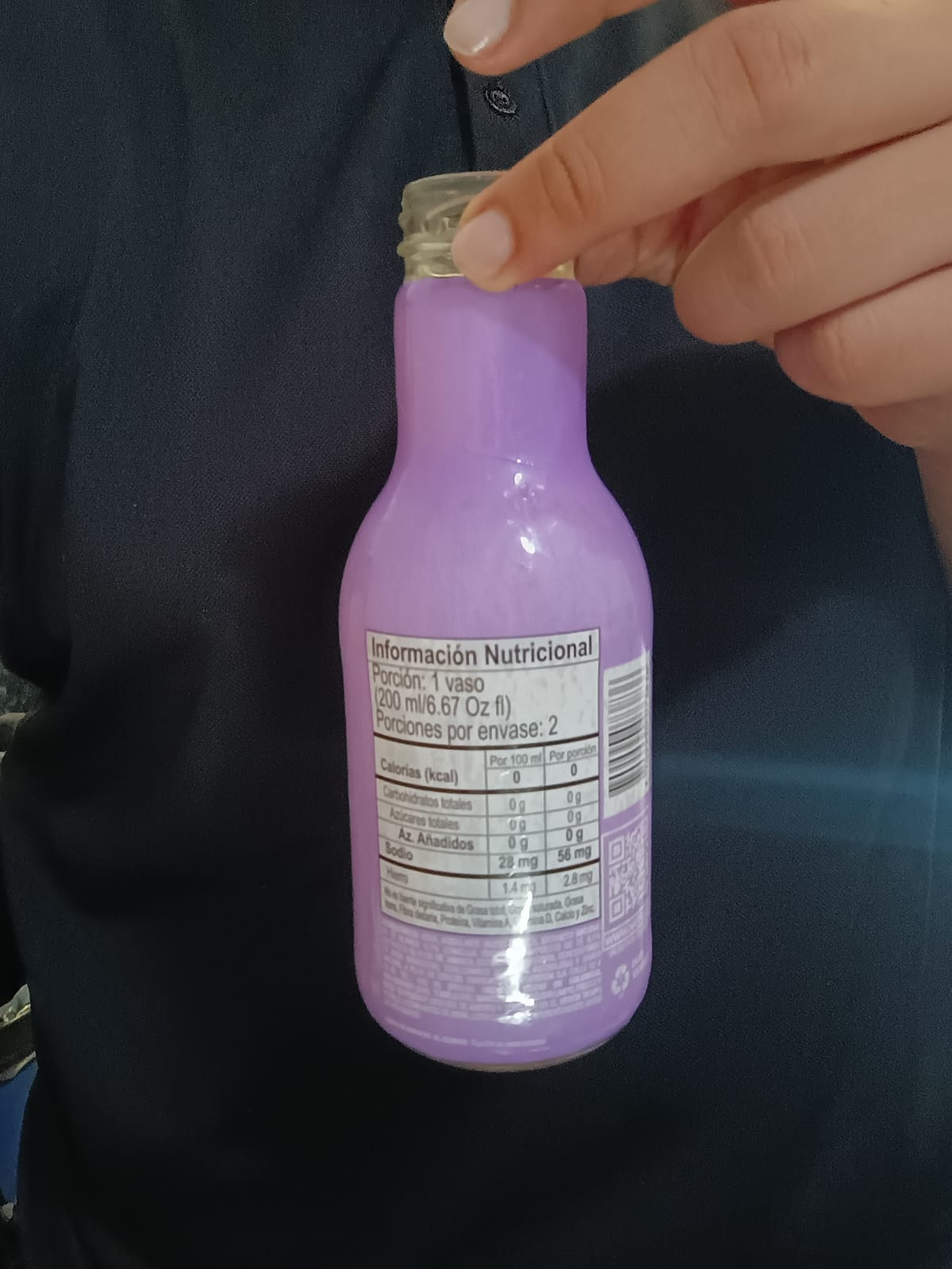Vidrio: (336, 170, 655, 1074)
